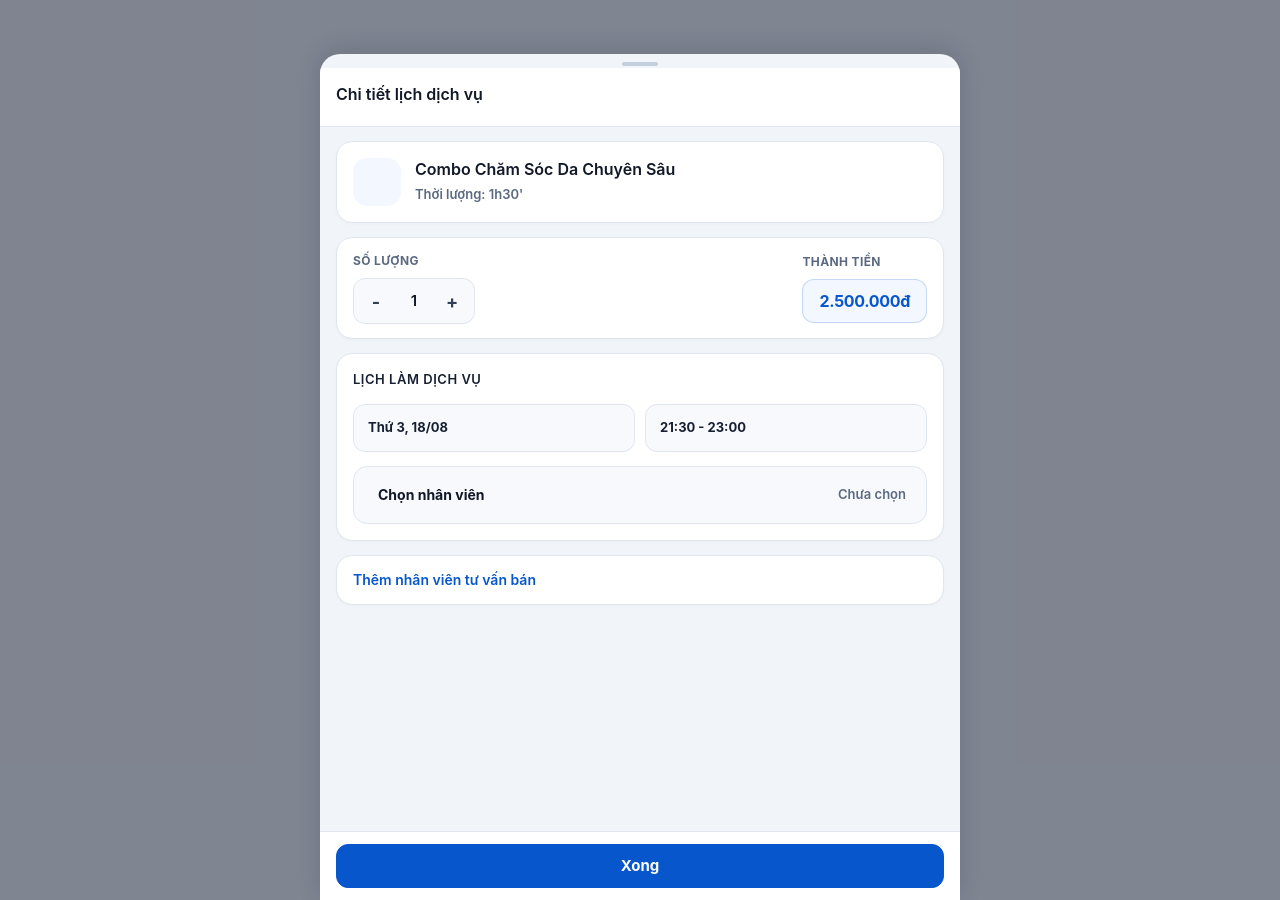
Test case: MobileServiceItemDetailSheet › updates quantity and recalculated total price when clicking + and - buttons
What coordinates should you click on to do the following:
click the button named "tăng số lượng"
I would click on:
 (452, 301)
Its box is [430, 279, 474, 323].
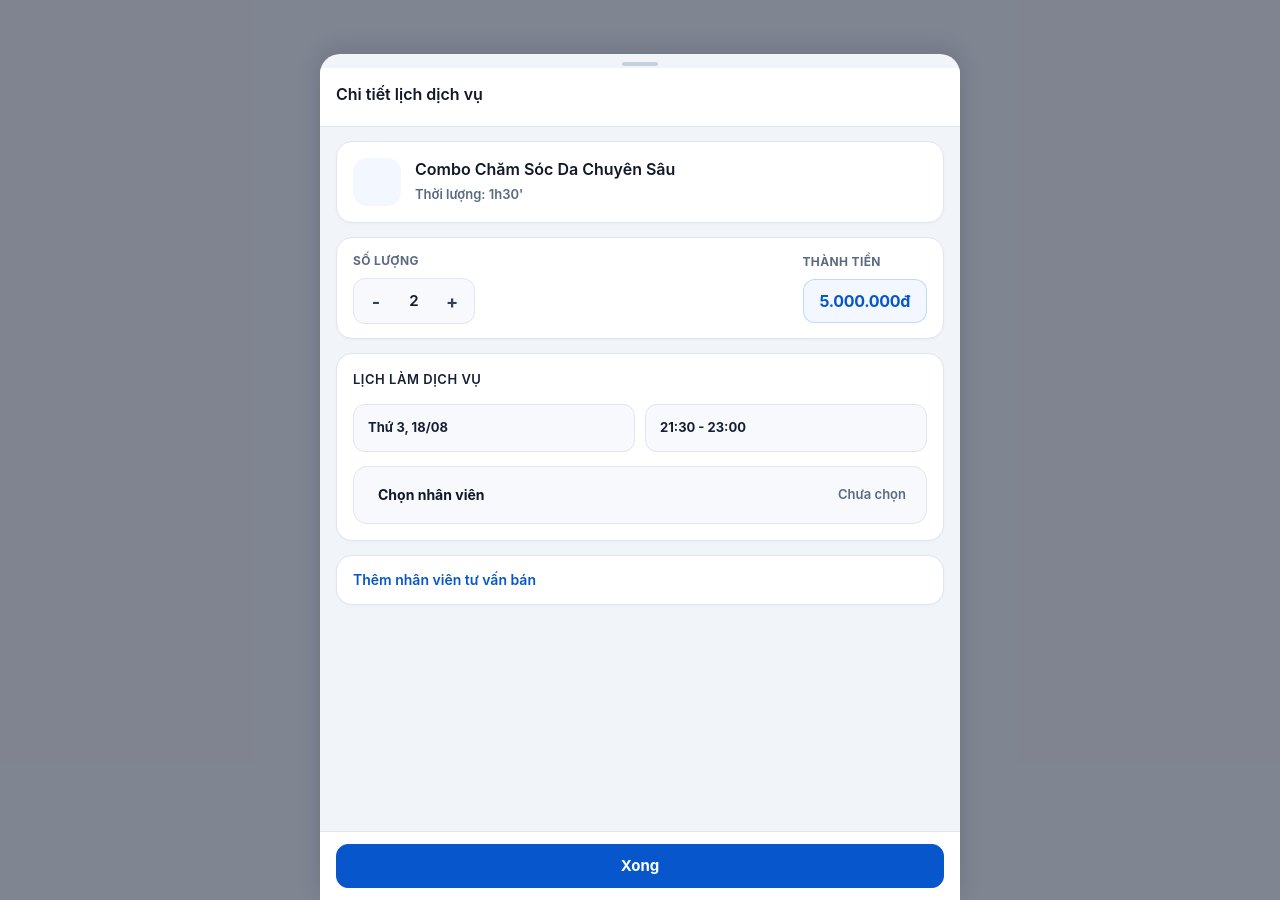
Result: the text "2" is shown at [409, 291, 419, 310]
Result: the text "5.000.000đ" is shown at [802, 279, 927, 323]
What coordinates should you click on to do the following:
click the button named "giảm số lượng"
I would click on:
 (376, 301)
Its box is [354, 279, 398, 323].
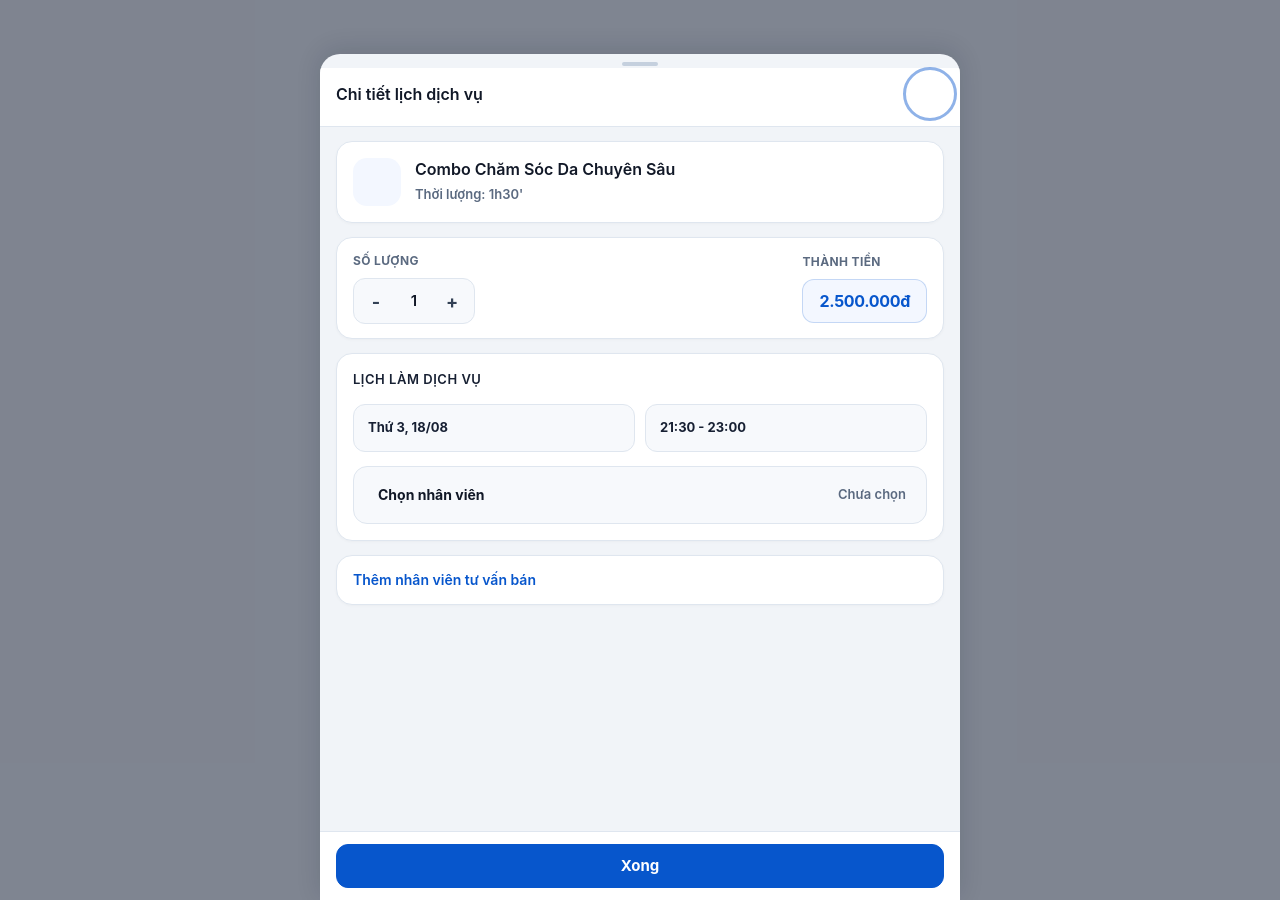
Result: the text "1" is shown at [411, 291, 417, 310]
Result: the text "2.500.000đ" is shown at [802, 279, 927, 323]
